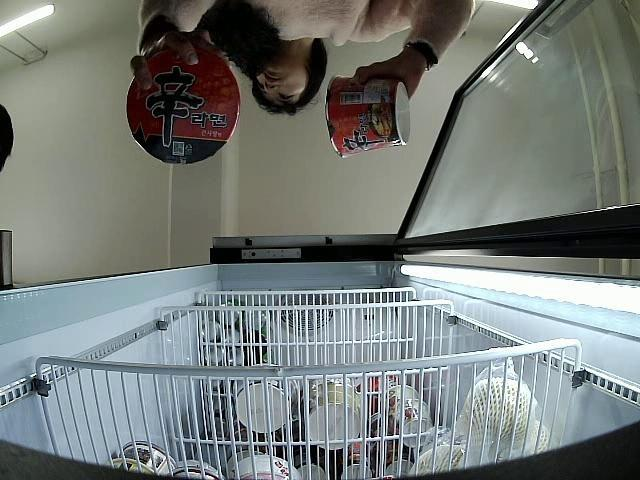01_ShinRamen_L: (126, 40, 242, 168), (326, 73, 412, 157)
